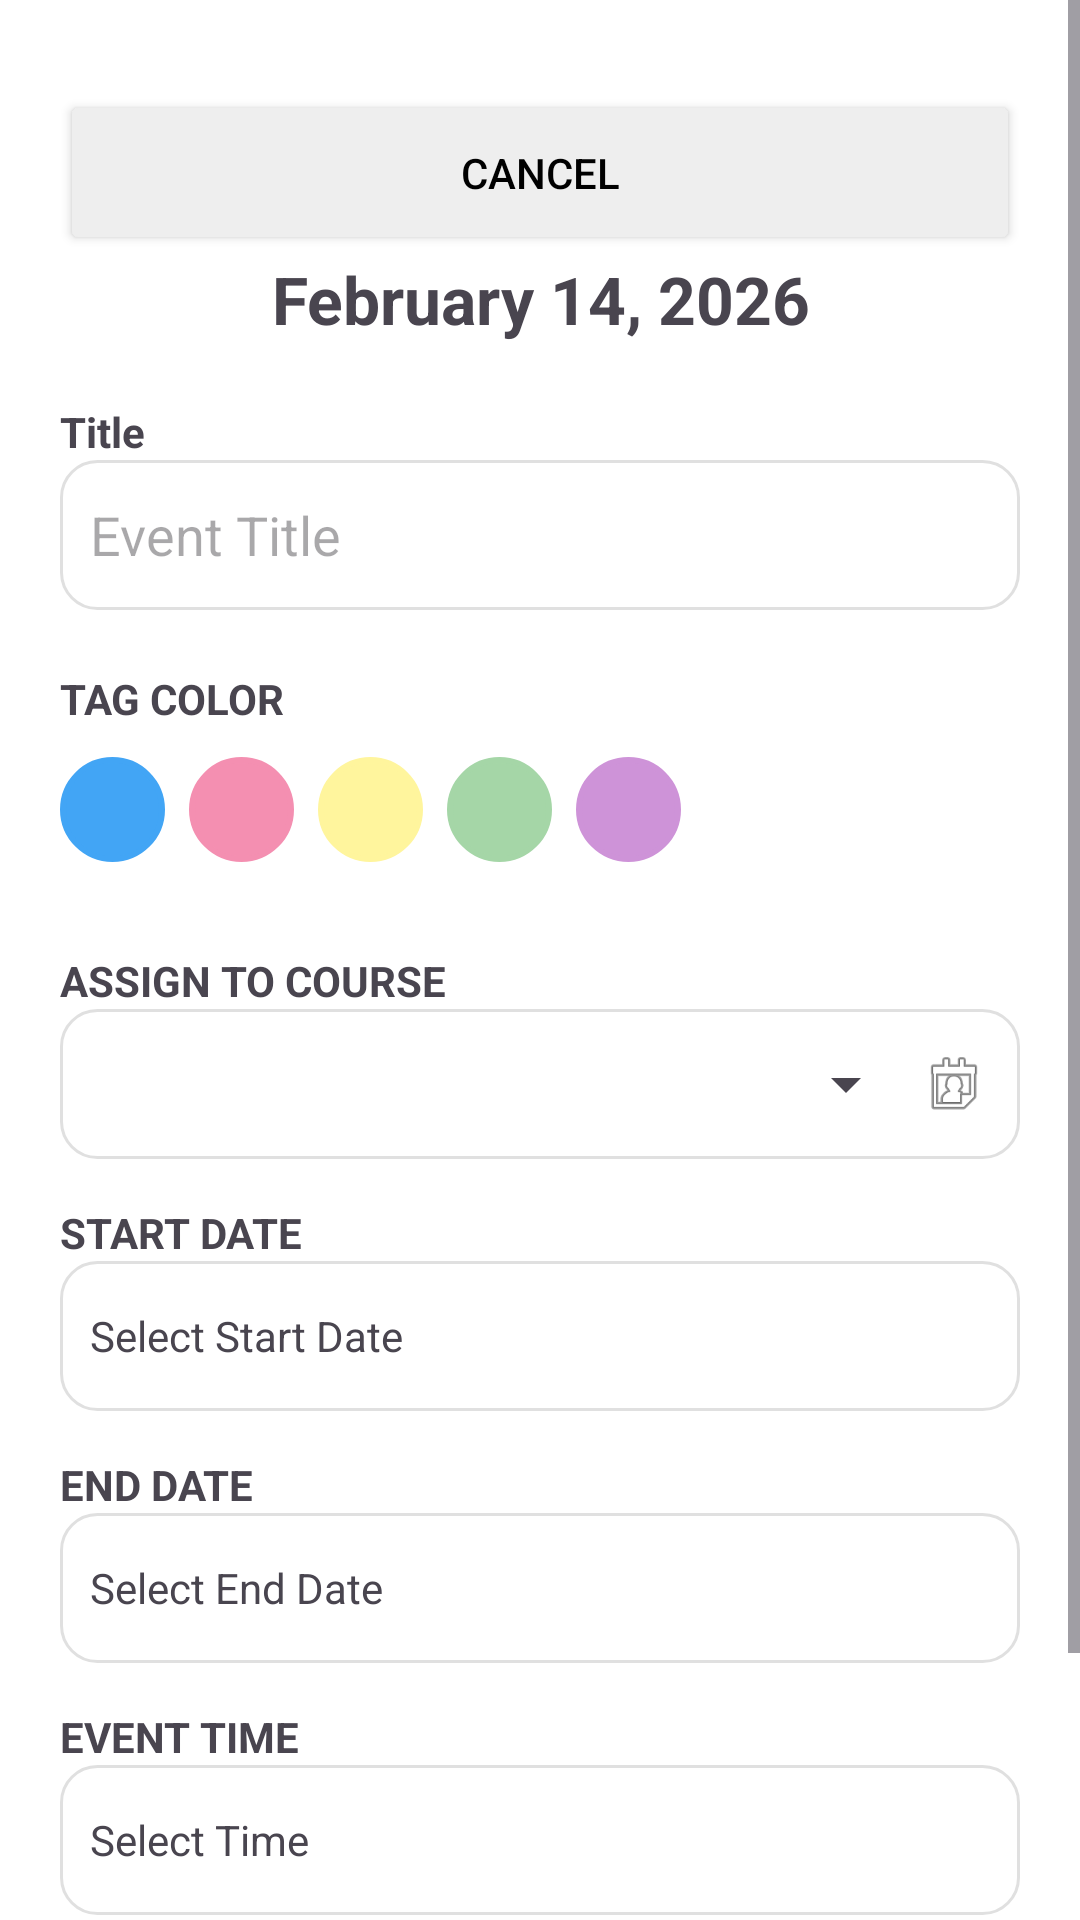

Point at icon controls on the screen. Image size 1080 x 1920, points as (x,y).
calendar: (954,1083)
